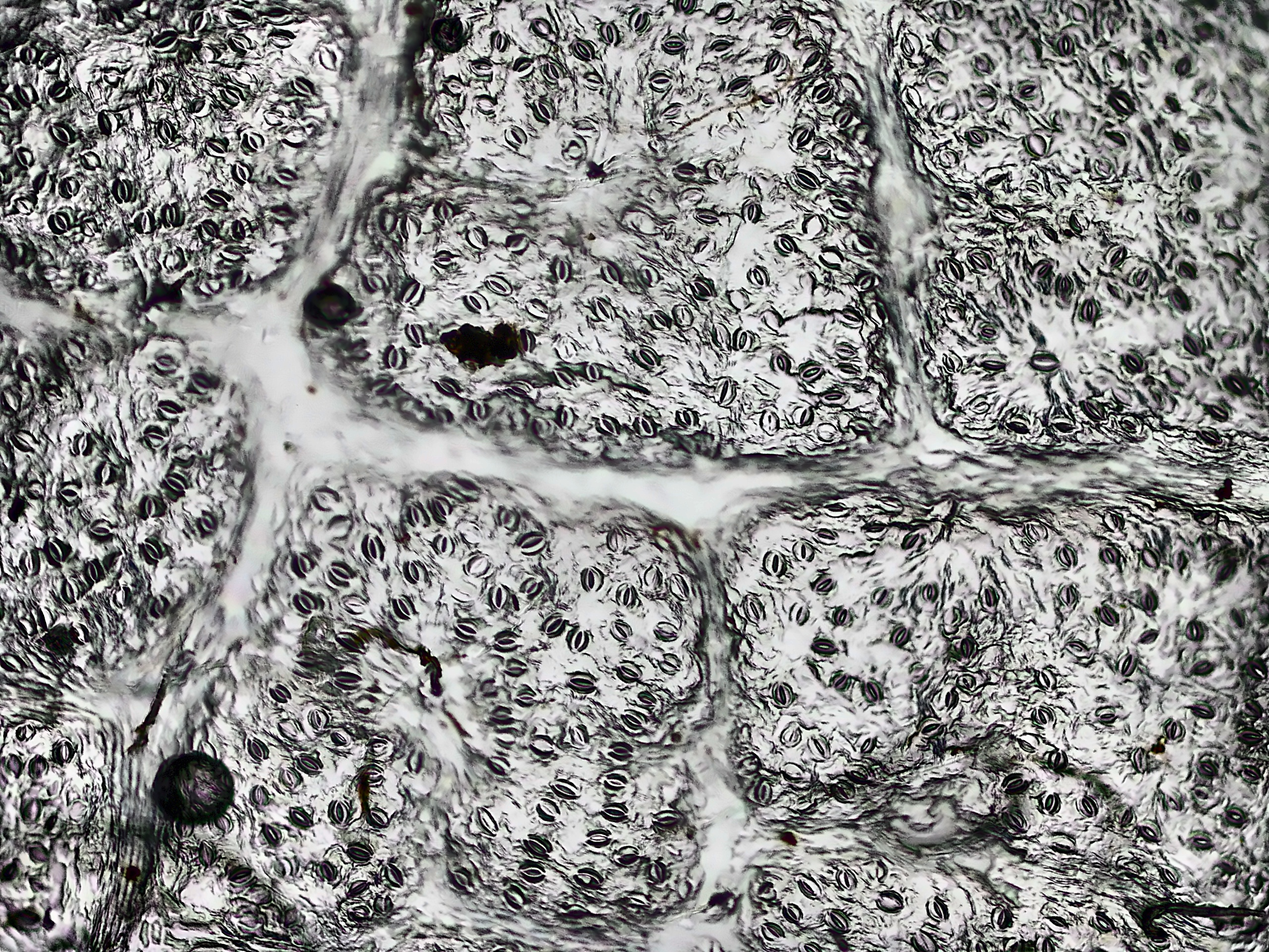stomata: (497, 875, 529, 913), (473, 805, 503, 836), (435, 107, 465, 134), (464, 551, 496, 576), (822, 907, 851, 933), (319, 44, 345, 72), (277, 717, 306, 742), (381, 862, 406, 891), (444, 865, 473, 890), (10, 428, 39, 452), (328, 797, 351, 827), (517, 533, 548, 555), (1025, 131, 1049, 159), (60, 338, 88, 362), (743, 593, 765, 623), (990, 205, 1021, 226), (591, 295, 617, 320), (1002, 806, 1028, 831), (802, 212, 828, 237), (619, 708, 646, 732), (52, 737, 75, 765), (739, 197, 762, 225), (763, 551, 786, 579), (925, 894, 948, 922), (1136, 818, 1161, 843), (800, 47, 825, 72), (360, 535, 384, 561), (530, 97, 556, 121), (141, 534, 165, 560), (292, 589, 318, 613), (595, 413, 621, 437), (933, 26, 957, 52), (141, 426, 169, 448), (43, 535, 65, 563), (551, 778, 579, 800), (712, 377, 734, 405), (567, 671, 595, 693), (851, 232, 880, 253), (20, 549, 40, 579), (454, 617, 478, 642), (792, 402, 817, 426), (383, 345, 406, 371), (1000, 773, 1027, 795), (151, 352, 179, 373), (569, 625, 590, 653), (484, 275, 513, 295), (1029, 351, 1058, 371), (161, 203, 185, 227), (59, 481, 83, 505), (609, 619, 633, 643), (111, 178, 134, 203), (403, 559, 426, 584), (279, 766, 302, 791), (537, 798, 560, 823), (772, 681, 795, 706), (1036, 791, 1061, 814), (17, 357, 40, 382), (333, 670, 363, 689), (551, 257, 572, 284), (629, 8, 650, 35), (68, 432, 95, 453), (0, 653, 27, 674), (295, 753, 322, 774), (524, 836, 551, 857), (611, 846, 638, 867), (646, 70, 674, 90), (876, 891, 904, 911), (203, 135, 227, 158), (399, 282, 423, 305), (171, 444, 194, 468), (598, 261, 621, 285), (1074, 793, 1098, 816), (574, 869, 603, 888), (135, 210, 157, 235), (598, 21, 620, 46), (433, 533, 455, 558), (632, 346, 657, 368), (606, 527, 628, 552), (968, 250, 993, 272), (49, 123, 75, 144), (69, 621, 90, 647), (340, 593, 366, 614), (582, 565, 603, 591), (668, 573, 689, 599), (788, 600, 809, 626), (917, 716, 943, 737), (793, 168, 819, 189), (1110, 91, 1136, 112), (326, 565, 353, 585), (226, 32, 253, 52), (405, 323, 425, 350), (492, 630, 519, 650), (902, 32, 922, 59), (284, 126, 307, 149), (619, 659, 642, 682), (464, 290, 488, 312), (246, 737, 268, 761), (672, 303, 694, 327), (780, 722, 802, 746), (819, 389, 850, 406), (98, 109, 119, 134), (392, 595, 413, 620), (731, 326, 752, 351), (1028, 706, 1053, 727), (265, 29, 294, 47), (939, 685, 957, 714), (150, 30, 176, 50), (77, 148, 103, 168), (59, 578, 79, 604), (654, 620, 680, 640), (442, 75, 469, 94), (346, 843, 373, 862), (199, 839, 218, 866), (811, 733, 830, 760), (189, 12, 212, 34), (474, 94, 496, 117), (542, 60, 564, 83), (163, 247, 186, 269), (289, 807, 312, 829), (543, 614, 565, 637), (530, 734, 553, 756), (469, 397, 492, 419), (552, 367, 575, 389), (747, 264, 770, 286), (903, 531, 925, 554), (942, 259, 965, 281), (1079, 298, 1101, 321), (572, 37, 593, 61), (35, 606, 56, 630), (27, 841, 51, 862), (644, 563, 662, 591), (759, 410, 780, 434), (793, 538, 814, 562), (836, 866, 857, 890), (829, 196, 853, 217), (29, 754, 49, 779), (2, 753, 22, 778), (557, 403, 577, 428), (675, 408, 700, 428), (220, 85, 246, 104), (361, 273, 387, 292), (517, 328, 536, 354), (519, 863, 545, 882), (831, 781, 857, 800), (203, 190, 232, 207), (227, 867, 254, 885), (600, 803, 627, 821), (505, 124, 527, 146), (261, 822, 283, 844), (773, 233, 795, 255), (1163, 718, 1185, 740), (765, 51, 786, 74), (95, 460, 115, 484), (33, 171, 53, 195), (430, 498, 450, 522), (1016, 732, 1040, 752), (855, 273, 879, 293), (868, 300, 888, 324), (653, 810, 681, 827), (1050, 416, 1078, 433), (469, 58, 494, 77), (504, 235, 529, 254), (770, 16, 795, 35), (797, 876, 822, 895), (434, 377, 460, 395), (40, 51, 62, 72), (147, 77, 168, 99), (243, 130, 265, 151), (197, 220, 218, 242), (466, 226, 488, 247), (232, 217, 253, 239), (526, 297, 548, 318), (812, 574, 834, 595), (728, 289, 750, 310), (829, 669, 850, 691), (1158, 863, 1180, 884), (1224, 805, 1246, 826), (1104, 52, 1126, 73), (16, 81, 36, 104), (435, 198, 455, 221), (862, 679, 882, 702), (755, 778, 772, 805), (1043, 914, 1070, 931), (1131, 746, 1148, 773), (157, 403, 181, 422), (727, 77, 751, 96), (840, 309, 864, 328), (1068, 210, 1087, 234), (754, 87, 778, 106), (924, 72, 949, 90), (194, 276, 220, 293), (876, 496, 902, 513), (49, 210, 70, 231), (404, 501, 425, 522), (658, 653, 679, 674), (141, 499, 163, 519), (232, 161, 252, 183), (250, 784, 270, 806), (516, 687, 538, 707), (635, 414, 655, 436), (1038, 667, 1058, 689), (1095, 156, 1115, 178), (617, 583, 636, 606), (845, 765, 868, 784), (819, 248, 842, 267), (157, 119, 175, 143), (150, 592, 168, 616), (347, 903, 371, 921), (500, 508, 518, 532), (648, 861, 666, 885), (489, 704, 513, 722), (762, 923, 786, 941), (1048, 747, 1066, 771), (1102, 128, 1126, 146), (1235, 728, 1262, 744), (42, 386, 66, 404), (360, 765, 385, 782), (862, 521, 887, 538), (849, 417, 874, 434), (513, 57, 534, 77), (363, 741, 391, 756), (692, 278, 713, 298), (1055, 547, 1075, 568), (938, 148, 959, 168), (90, 517, 112, 536), (292, 77, 314, 96), (223, 244, 245, 263), (1093, 912, 1115, 931), (1096, 605, 1118, 624), (940, 352, 962, 371), (904, 85, 923, 107), (970, 53, 992, 72), (1243, 661, 1265, 680), (659, 35, 685, 51), (609, 742, 635, 758), (1019, 181, 1042, 199), (1118, 416, 1141, 434), (487, 758, 510, 776), (200, 512, 217, 536), (492, 584, 509, 608), (189, 96, 209, 116), (58, 176, 78, 196), (111, 586, 131, 606), (367, 807, 387, 827), (1018, 80, 1038, 100), (1104, 509, 1124, 529), (670, 165, 695, 181), (49, 81, 70, 100), (531, 18, 552, 37), (648, 309, 669, 328), (639, 264, 658, 285), (790, 125, 811, 144), (976, 90, 997, 109), (1081, 399, 1102, 418), (290, 552, 312, 570), (270, 684, 292, 702), (308, 708, 326, 730), (319, 858, 337, 880), (874, 585, 892, 607), (854, 734, 876, 752), (966, 394, 988, 412), (581, 72, 604, 89), (1140, 590, 1157, 613), (693, 209, 719, 224), (586, 830, 610, 846), (993, 907, 1009, 931), (1024, 522, 1048, 538), (1057, 273, 1073, 297), (434, 249, 454, 268), (13, 618, 33, 637), (1056, 586, 1076, 605), (812, 83, 831, 103), (1134, 269, 1154, 288), (1226, 374, 1246, 393), (1069, 2, 1089, 21), (570, 726, 589, 746), (15, 146, 33, 167), (781, 904, 802, 922), (920, 581, 938, 602), (945, 302, 966, 320), (1199, 426, 1220, 444), (25, 799, 43, 820), (1119, 652, 1134, 677), (510, 379, 533, 395), (1189, 832, 1212, 848), (1171, 550, 1187, 573), (21, 45, 40, 64), (79, 217, 98, 236), (1106, 246, 1125, 265), (707, 160, 726, 179), (103, 65, 121, 85), (714, 2, 734, 20), (327, 728, 347, 746), (504, 658, 524, 676), (626, 891, 650, 906), (978, 587, 998, 605), (1185, 620, 1203, 640), (637, 690, 658, 707), (604, 774, 626, 790), (1191, 702, 1213, 718), (812, 639, 837, 653), (1065, 642, 1090, 656), (274, 169, 297, 184), (522, 577, 540, 596), (892, 626, 910, 645), (812, 141, 831, 159), (189, 378, 209, 395), (16, 723, 36, 740), (979, 322, 999, 339), (1124, 352, 1144, 369), (1008, 418, 1028, 435), (1206, 401, 1226, 418), (1142, 547, 1159, 567), (13, 196, 34, 212), (836, 342, 857, 358), (1095, 707, 1116, 723), (1033, 261, 1054, 277), (1174, 129, 1190, 150), (164, 477, 186, 492), (815, 529, 837, 544), (825, 502, 847, 517), (709, 41, 734, 54), (772, 354, 790, 372), (817, 423, 835, 441), (967, 128, 985, 146), (1057, 34, 1075, 52), (492, 31, 508, 51), (84, 560, 100, 580), (1172, 289, 1188, 309), (1189, 170, 1205, 190), (1217, 559, 1233, 579), (838, 362, 860, 376), (375, 895, 392, 913), (833, 607, 850, 625), (1184, 335, 1201, 353), (1101, 546, 1119, 563), (1192, 784, 1210, 801), (958, 673, 977, 689), (1117, 805, 1133, 824), (1177, 262, 1196, 278), (1239, 765, 1259, 780), (1240, 701, 1260, 716), (799, 365, 822, 378), (833, 108, 850, 125), (349, 880, 367, 896), (584, 362, 600, 379), (663, 103, 680, 119), (1176, 60, 1193, 76), (960, 636, 974, 655), (1193, 660, 1212, 674), (1165, 793, 1182, 807), (1140, 630, 1158, 643), (1184, 208, 1198, 224), (1199, 761, 1216, 774), (983, 360, 1005, 370), (1196, 535, 1210, 550), (1163, 96, 1177, 110)
